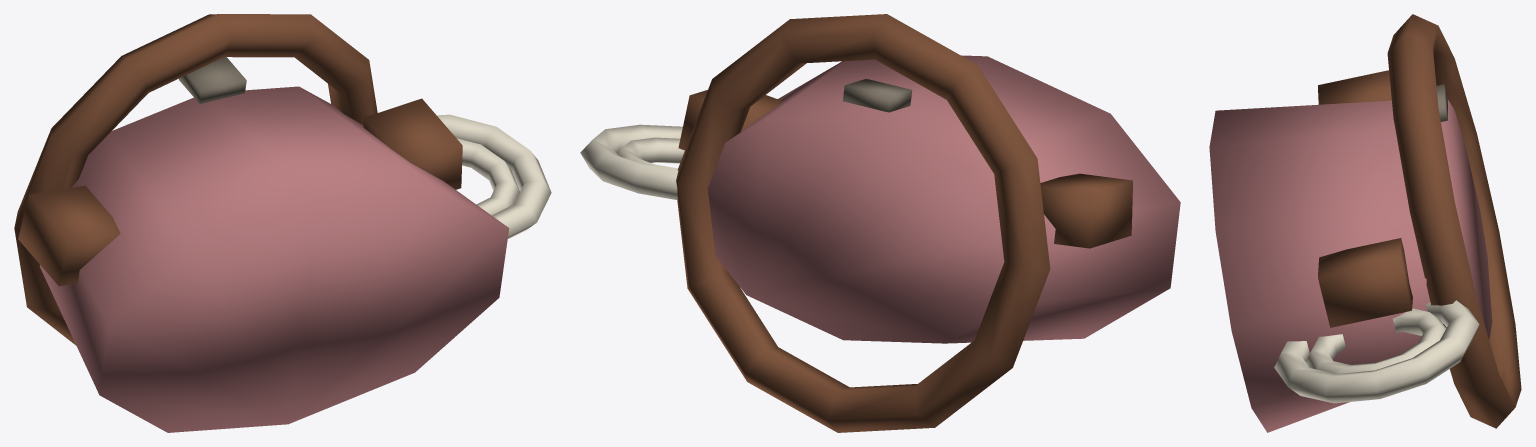
The model's file is SM_W02_Climber_Hips.fbx.
The picture shows the model from 3 angles, left to right: view 1: azimuth 30°, elevation 25°; view 2: azimuth 150°, elevation 25°; view 3: azimuth 270°, elevation 25°; orthographic projection. The views are drawn at different scales.
Parts seen in each view (by area): view 1: SM_W02_Climber_Hips; view 2: SM_W02_Climber_Hips; view 3: SM_W02_Climber_Hips.
Part boxes in pixels (<box>): SM_W02_Climber_Hips: <box>14,14,551,432</box>; SM_W02_Climber_Hips: <box>580,14,1180,432</box>; SM_W02_Climber_Hips: <box>1209,14,1521,432</box>.
Size of the model in its own units: 1 by 0.5388 by 0.7148.
